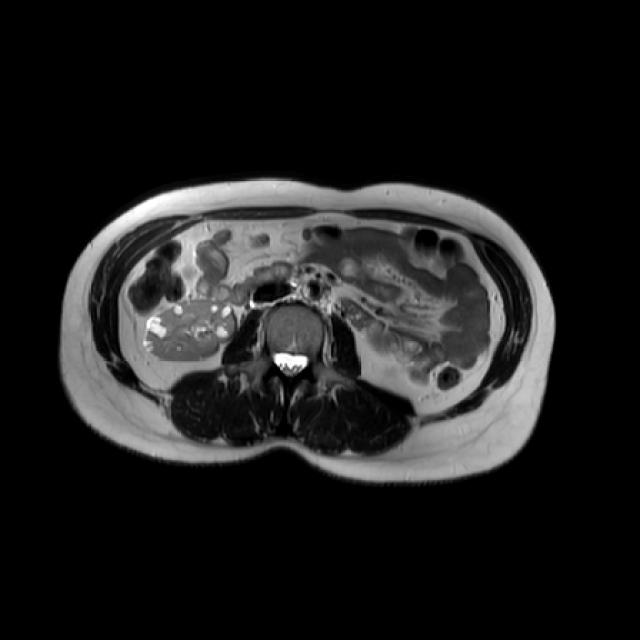sag: (140, 299, 237, 362)
